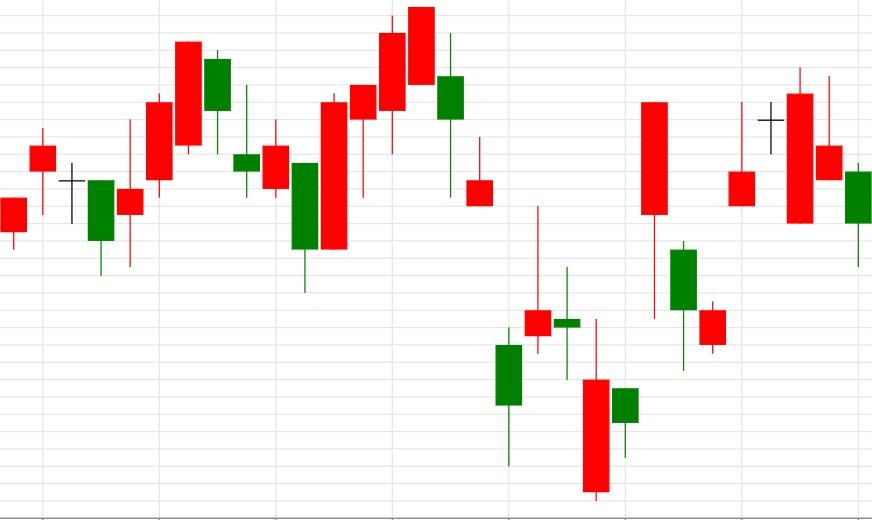shooting_star_fall: (495, 206, 552, 465)
